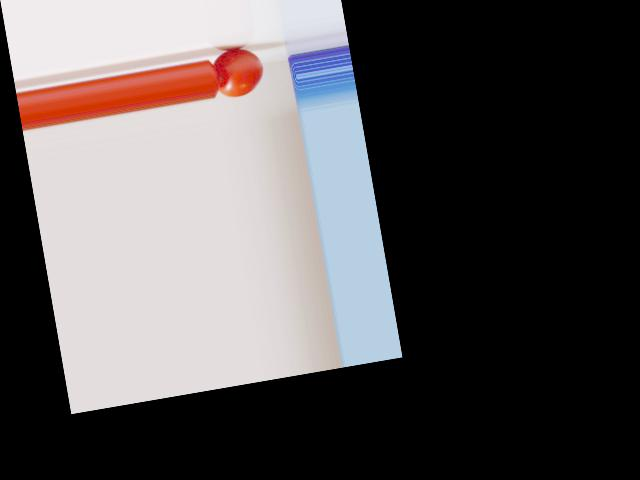tomato: (212, 44, 267, 99)
